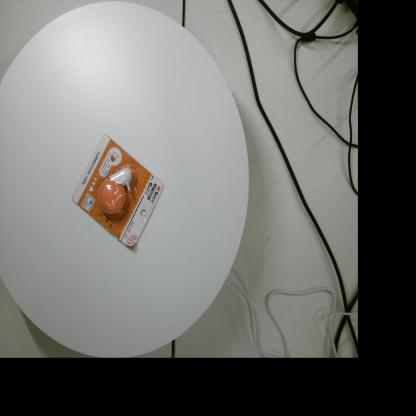Stationery: (72, 134, 164, 250)
